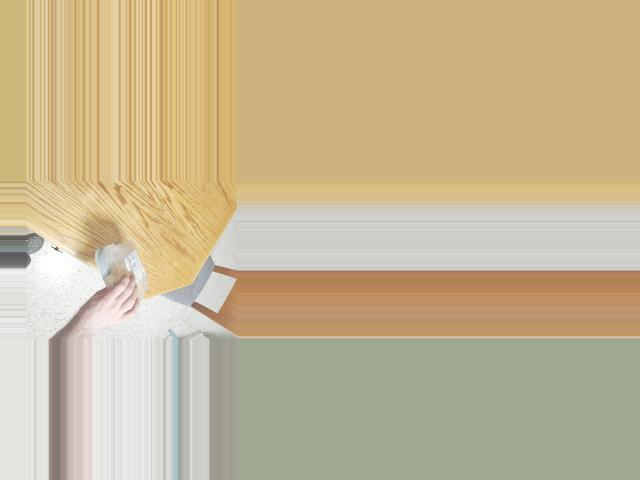cheese: (102, 248, 143, 300)
